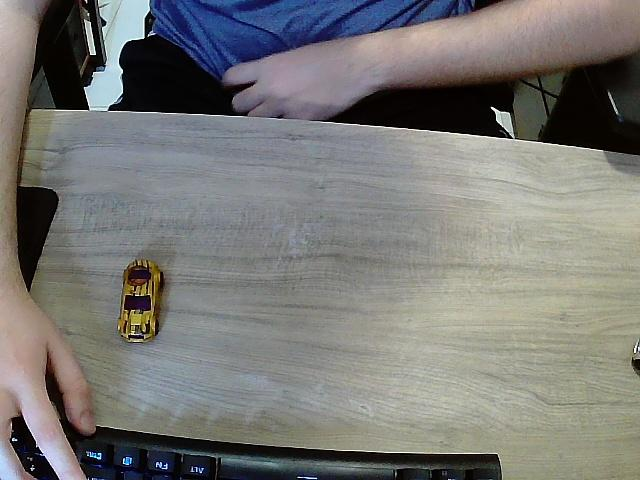Carro: (117, 258, 164, 345)
